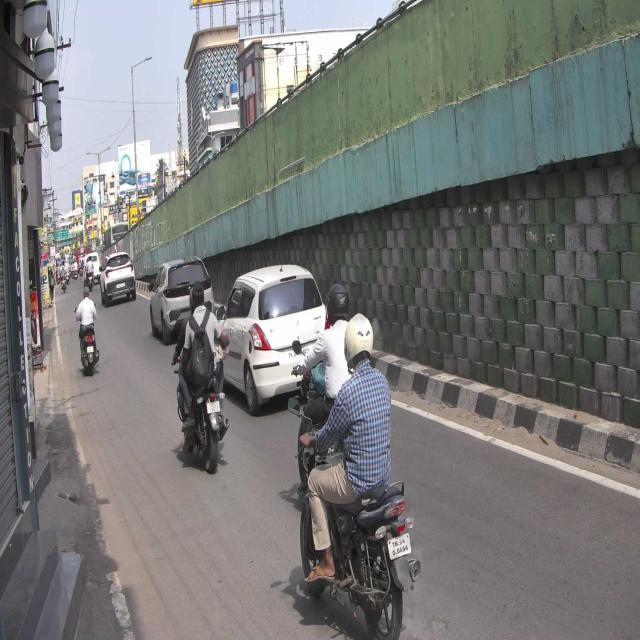single_rider: (299, 309, 421, 640)
